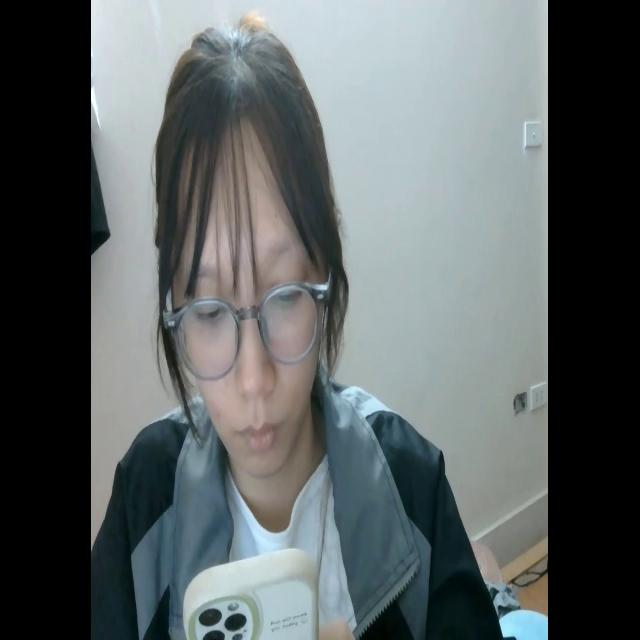phone: (178, 549, 320, 640)
student: (98, 15, 500, 640)
